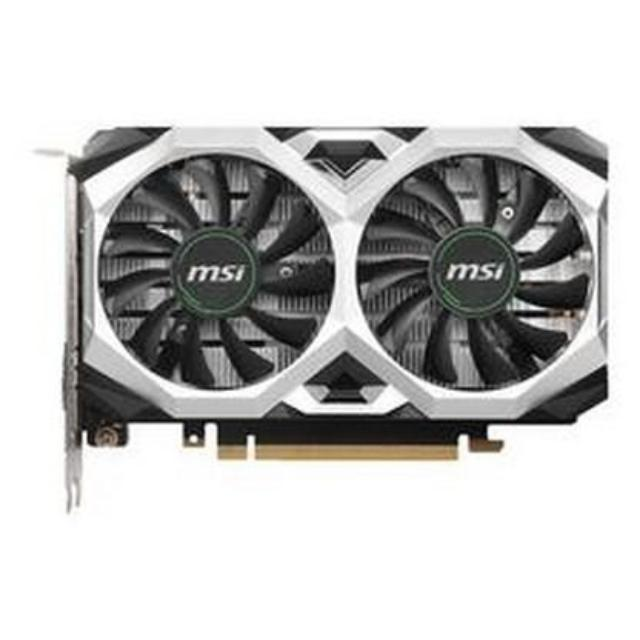GPU: (45, 106, 628, 474)
